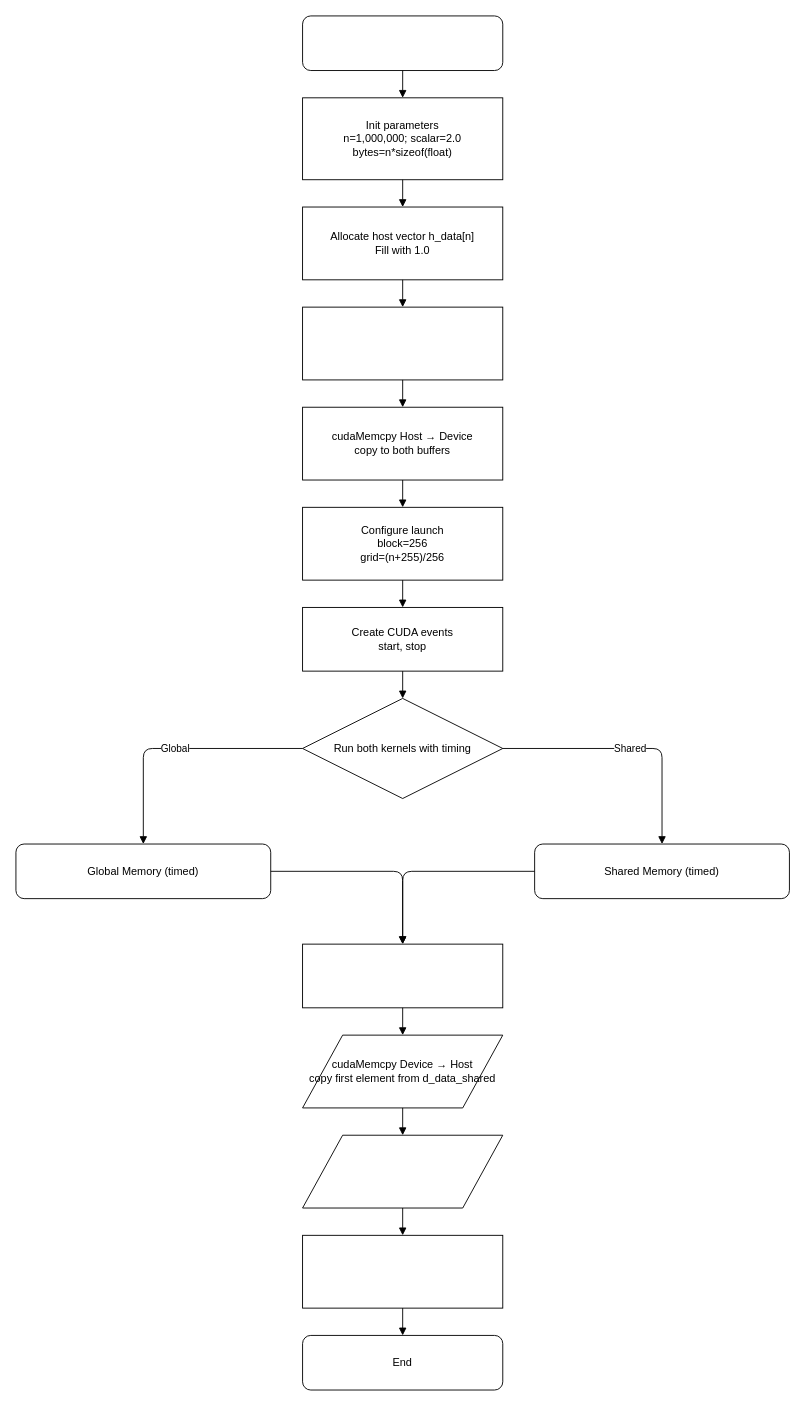
Image size: 805x1406. Some labels were removed from this diagram. Each missing label, with the box of its shape:
Both timings recorded: (302, 943, 503, 1008)
Cleanup cudaFree buffers Destroy events: (302, 1234, 503, 1308)
cudaMalloc d_data_global, d_data_shared: (302, 306, 503, 380)
Print timings and check value Expected: 2.0: (302, 1134, 503, 1208)
Start: (302, 15, 503, 71)
